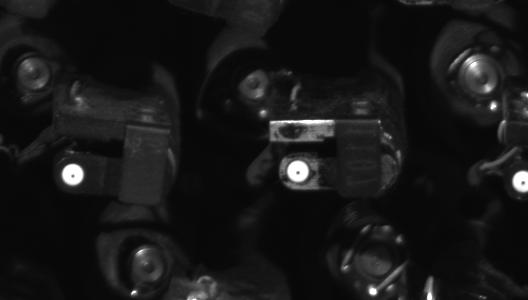fiber: (55, 161, 91, 190), (283, 157, 312, 186), (511, 166, 528, 197)
